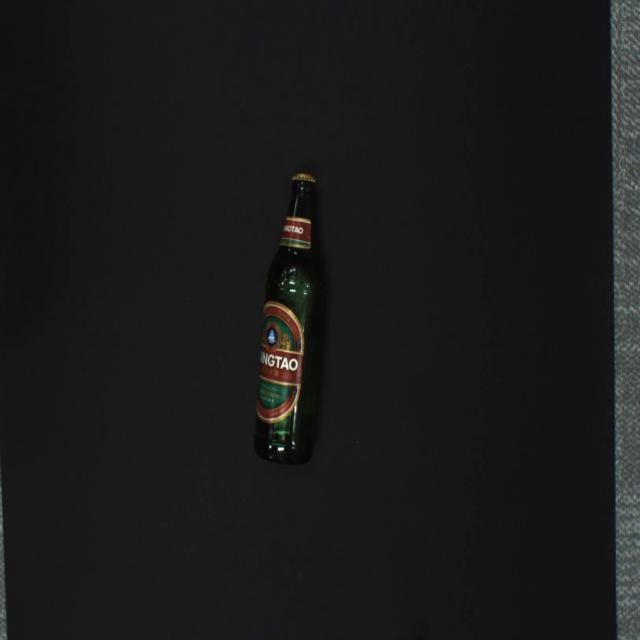beer-bottle: (254, 172, 326, 465)
